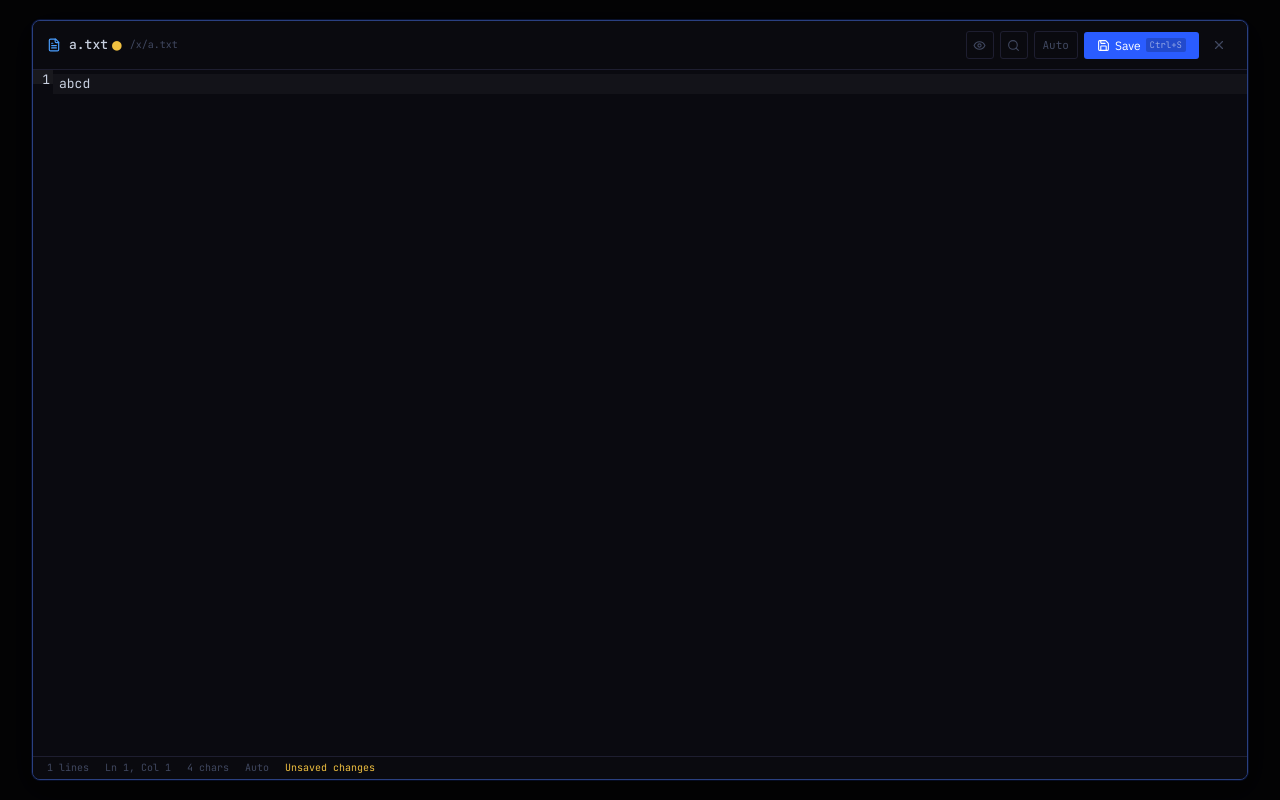
Test: TextEditor 미저장 확인 (Todo #75) › TED-02: 변경 후 X 버튼 → 확인창, 바로 닫히지 않음
Click the button titled "Close (Esc)".
click(1219, 45)  # box [1205,31,1233,59]
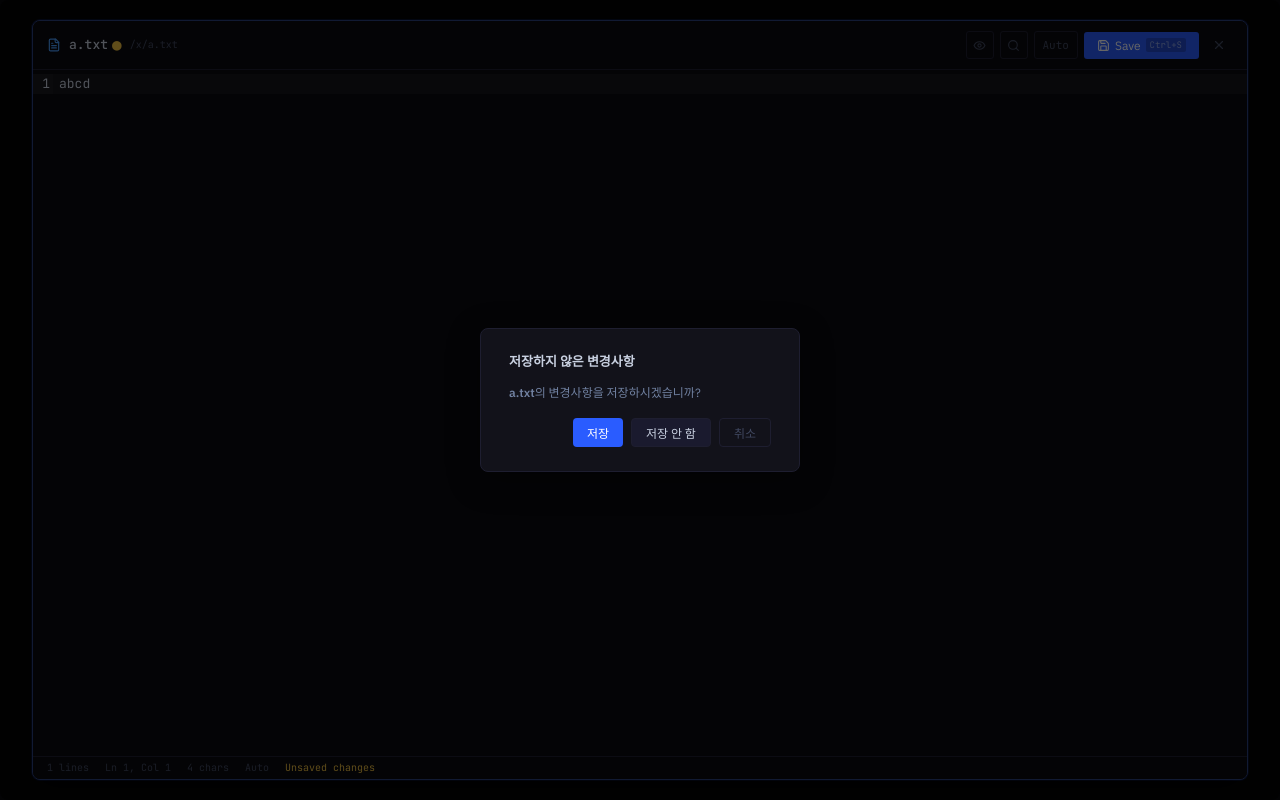
Result: the text "저장하지 않은 변경사항" is shown at [509,353,635,370]
